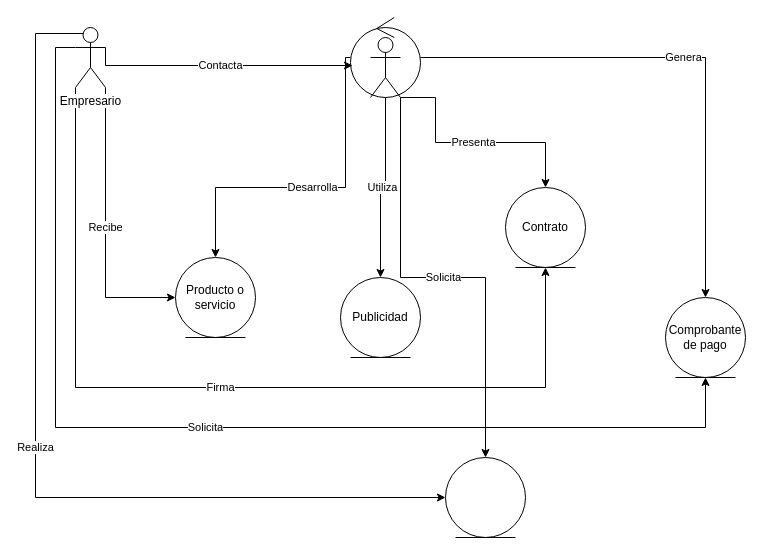
This 763x555 diagram has some shape labels left out. The shapes that lost their labels are listed below. From the top down, each one's centre as x and y in pixels, then its label:
the point at 385,67: Freelancer
the point at 485,497: Pago
